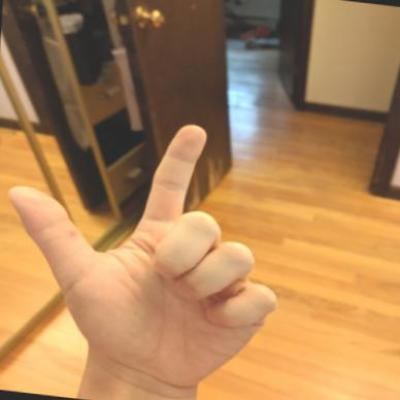hand: (0, 98, 302, 393)
